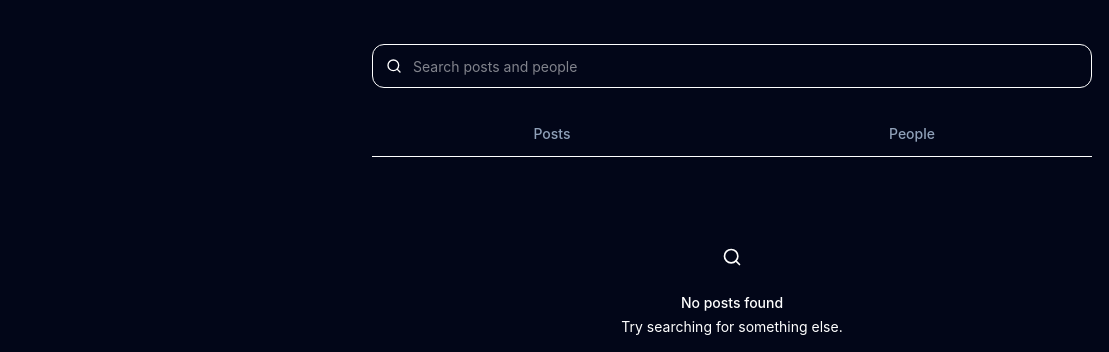
Test: SearchPage › renders people, hides self-messaging, and navigates to profiles
The image size is (1109, 352).
What coordinates should you click on to do the following:
click the button "People"
I would click on:
 (912, 134)
Its box is [732,112,1092,156].
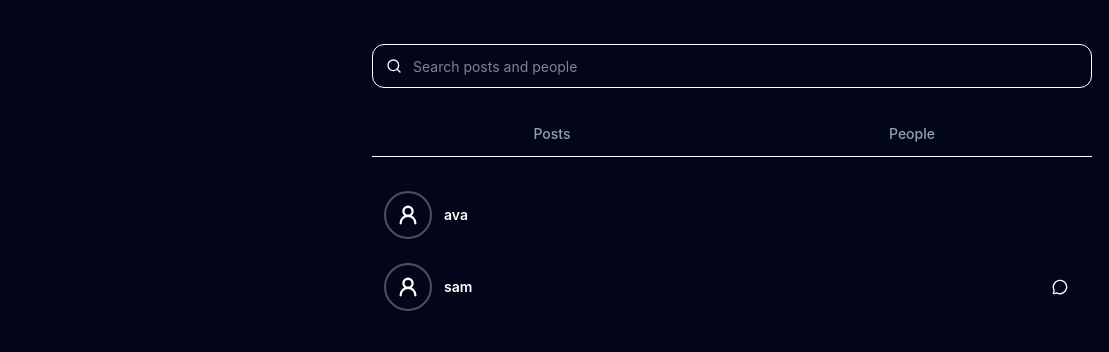
Check: the button named "Message sam" is shown, box [1040,267,1080,307]
What coordinates should you click on to do the following:
click the button "sam"
I would click on:
 (408, 287)
Its box is [384,263,1032,311].
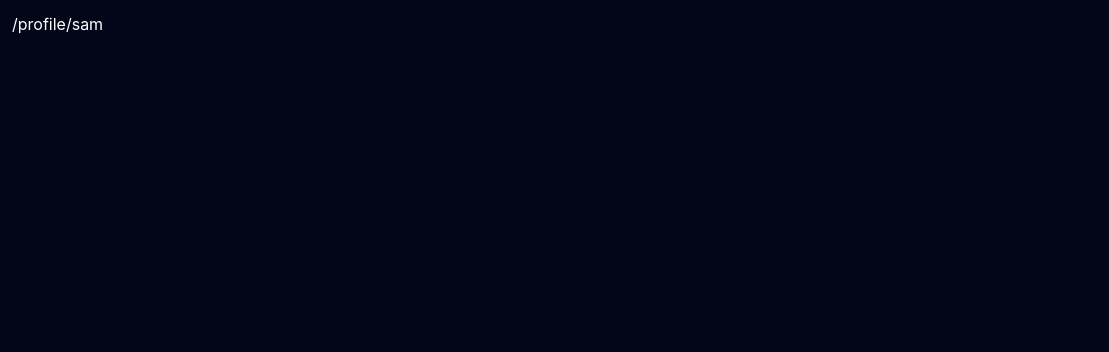
Check: the text with test id "location" reads "/profile/sam", box [12,14,103,34]
